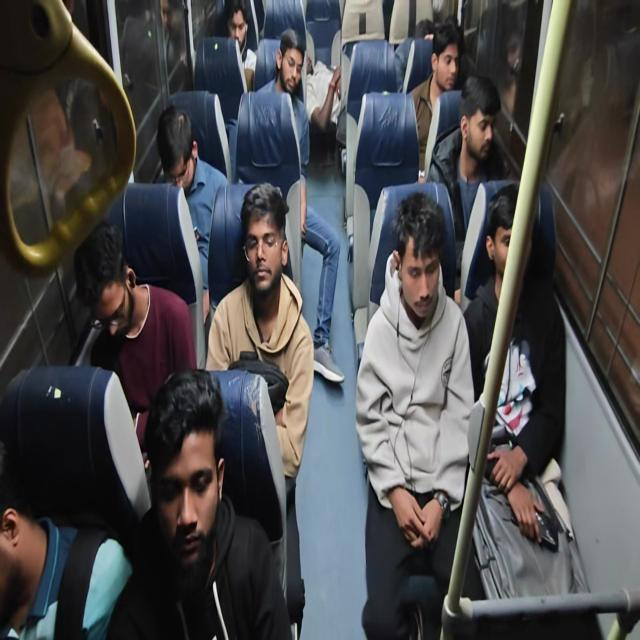person: (160, 378, 274, 640), (64, 252, 198, 431), (148, 101, 244, 236), (382, 204, 471, 340), (0, 445, 62, 640), (474, 195, 540, 310), (453, 79, 504, 149), (272, 42, 324, 105), (312, 44, 348, 134), (433, 28, 476, 97), (248, 202, 283, 284), (403, 18, 450, 72), (224, 0, 268, 50)
